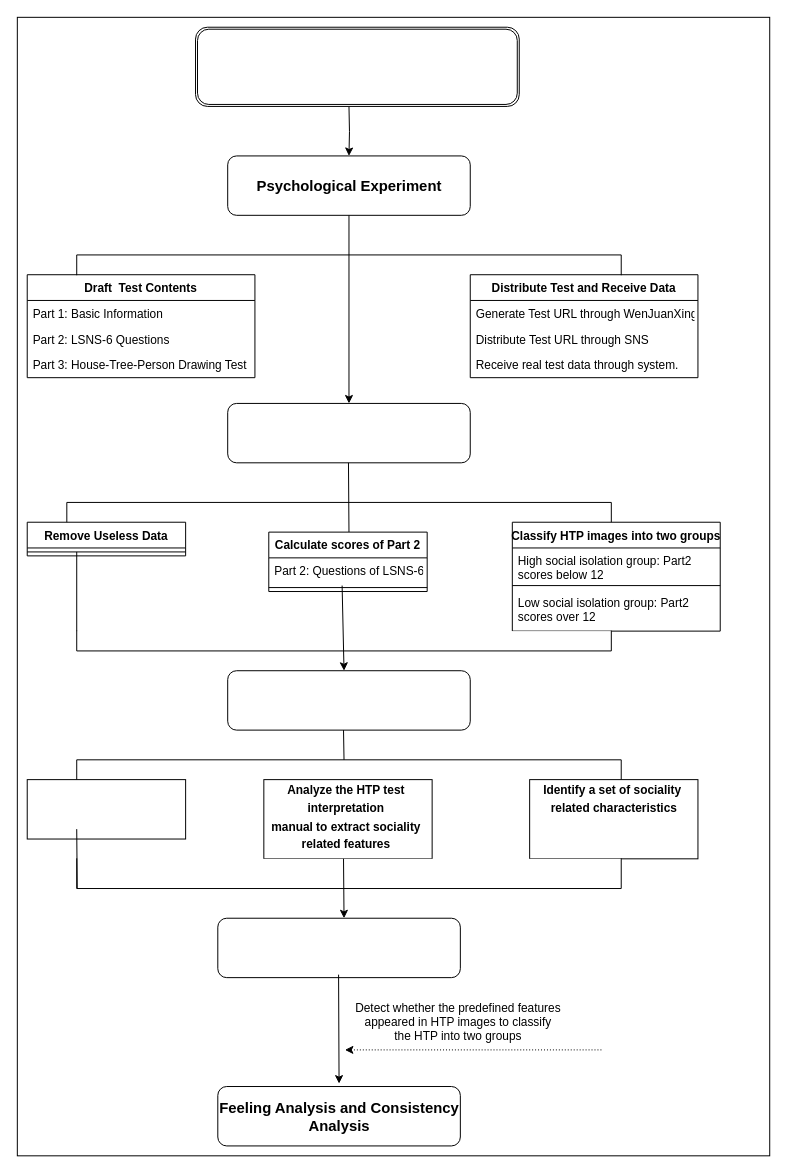
Some shapes in this 787 by 1173 pixel diagram are drawn without their labels. Here are the shapes that lost their labels. From the top down, the centre of each, then its label:
At (x=357, y=66): "Overall Organization Structure".
At (x=348, y=432): "Result Data Processing".
At (x=348, y=700): "Relation Analysis".
At (x=106, y=809): "Analyze similarities and differences between two groups".
At (x=338, y=947): "Object Detection".
